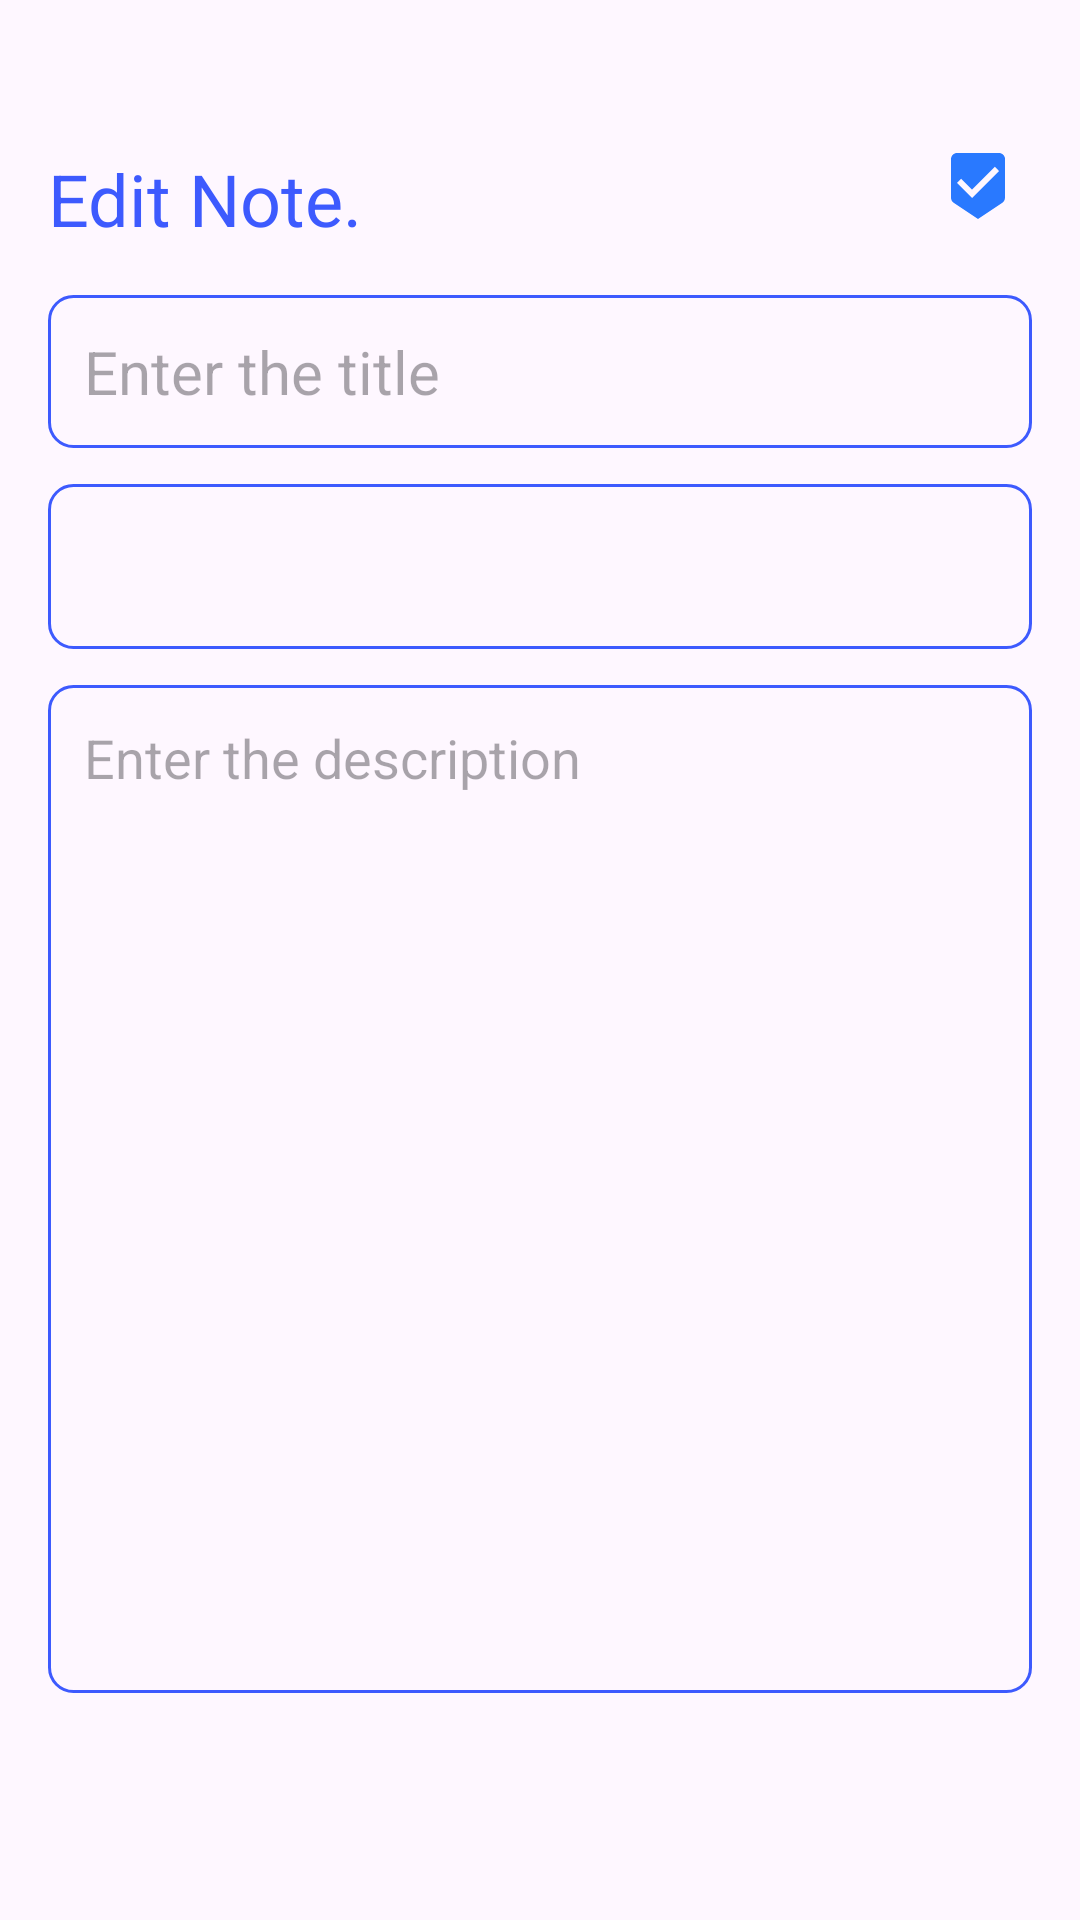

Screen size 1080×1920. Icon name, then its box in pixels as (x1, y1, x2, y2):
beenhere: (951, 153, 1005, 219)
